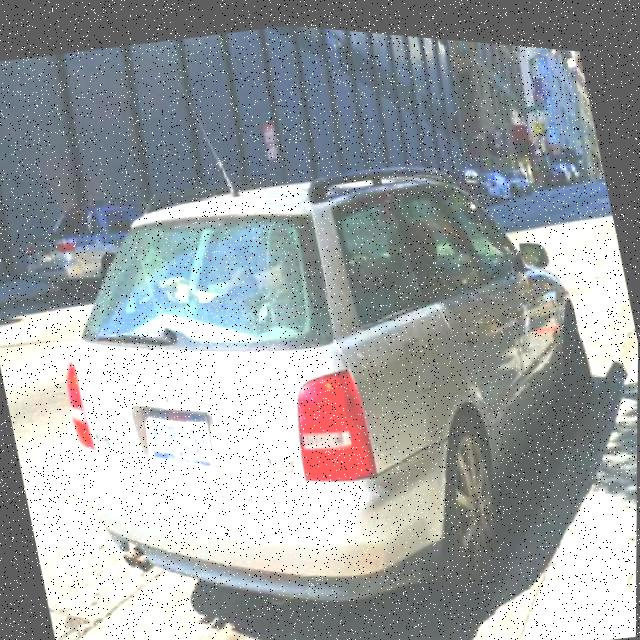license_plate: (139, 390, 218, 477)
